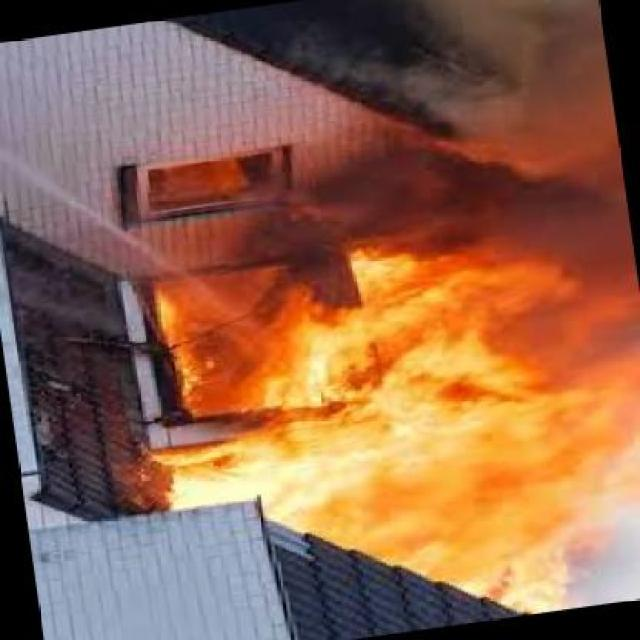Fire: (116, 222, 640, 616), (122, 156, 300, 212)
Smoke: (313, 14, 640, 222)
